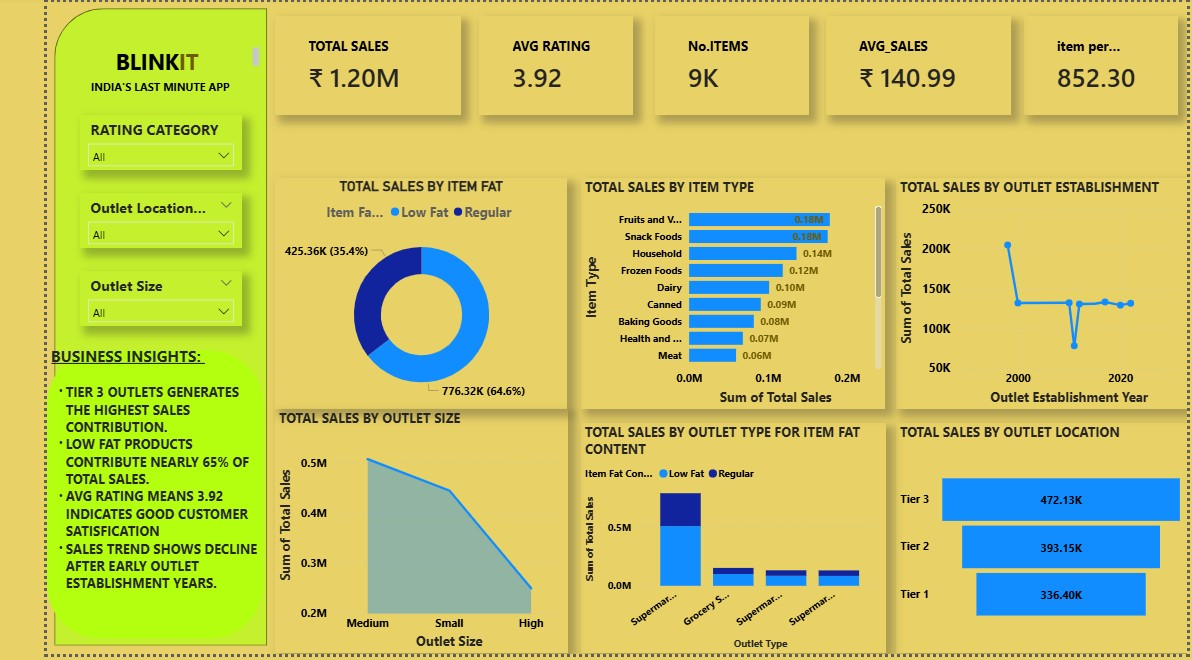

What the dashboard file says about the page in this screenshot:
{"tool":"powerbi","page":{"name":"Page 1","canvas":[1400,800],"ordinal":0},"visuals":[{"type":"shape","box":[0,0,279,799.9],"z":0},{"type":"textbox","box":[12.9,51.5,252.2,38.7],"z":1000},{"type":"textbox","box":[12.9,90.2,252.2,38.7],"z":2000},{"type":"cardVisual","title":"TOTAL SALES","fields":{"Data":["Sum(BlinkIT Grocery Data.Total Sales)"]},"box":[279.8,18.4,228.2,121.5],"z":3000},{"type":"cardVisual","title":"TOTAL SALES","fields":{"Data":["BlinkIT Grocery Data.AVG RATING"]},"box":[530.1,18.4,189.6,121.5],"z":4000},{"type":"cardVisual","title":"TOTAL SALES","fields":{"Data":["BlinkIT Grocery Data.No.ITEMS"]},"box":[745.4,18.4,189.6,121.5],"z":5000},{"type":"donutChart","title":"TOTAL SALES BY ITEM FAT ","fields":{"Y":["Sum(BlinkIT Grocery Data.Total Sales)"],"Category":["BlinkIT Grocery Data.Item Fat Content"]},"box":[279.8,217.2,358.9,283.4],"z":8000},{"type":"lineChart","title":"TOTAL SALES BY OUTLET ESTABLISHMENT","fields":{"Y":["Sum(BlinkIT Grocery Data.Total Sales)"],"Category":["BlinkIT Grocery Data.Outlet Establishment Year"]},"box":[1041.7,217.2,358.9,283.4],"z":10000},{"type":"clusteredBarChart","title":"TOTAL SALES BY ITEM TYPE","fields":{"Y":["Sum(BlinkIT Grocery Data.Total Sales)"],"Category":["BlinkIT Grocery Data.Item Type"]},"box":[655.2,217.2,373.6,283.4],"z":11000},{"type":"columnChart","title":"TOTAL SALES BY OUTLET TYPE FOR ITEM FAT CONTENT","fields":{"Series":["BlinkIT Grocery Data.Item Fat Content"],"Y":["Sum(BlinkIT Grocery Data.Total Sales)"],"Category":["BlinkIT Grocery Data.Outlet Type"]},"box":[655,517,374,283],"z":12000},{"type":"funnel","title":"TOTAL SALES BY OUTLET LOCATION","fields":{"Y":["Sum(BlinkIT Grocery Data.Total Sales)"],"Category":["BlinkIT Grocery Data.Outlet Location Type"]},"box":[1042,517,358,283],"z":13000},{"type":"slicer","fields":{"Values":["BlinkIT Grocery Data.RATING CATEGORY"]},"box":[40.5,139.9,198.8,68.1],"z":14000},{"type":"slicer","fields":{"Values":["BlinkIT Grocery Data.Outlet Location Type"]},"box":[40.5,235.6,198.8,68.1],"z":14002},{"type":"slicer","fields":{"Values":["BlinkIT Grocery Data.Outlet Size"]},"box":[40.5,331.3,198.8,68.1],"z":14003},{"type":"cardVisual","title":"TOTAL SALES","fields":{"Data":["BlinkIT Grocery Data.item per outlet"]},"box":[1198.2,18.4,189.6,121.5],"z":14004},{"type":"cardVisual","title":"TOTAL SALES","fields":{"Data":["BlinkIT Grocery Data.AVG_SALES"]},"box":[955.2,18.4,228.2,121.5],"z":14005},{"type":"stackedAreaChart","title":"TOTAL SALES BY OUTLET SIZE","fields":{"Y":["Sum(BlinkIT Grocery Data.Total Sales)"],"Category":["BlinkIT Grocery Data.Outlet Size"]},"box":[280,500,359,300],"z":14006},{"type":"shape","box":[0,428.8,265,353.4],"z":14007},{"type":"textbox","box":[0,399.4,265,382.8],"z":14008}]}

Visuals, with their boxes in screenshot pixels (x1, y1, x2, y2):
shape: x1=40, y1=3, x2=268, y2=655
textbox: x1=51, y1=45, x2=256, y2=77
textbox: x1=51, y1=77, x2=256, y2=108
"TOTAL SALES" cardVisual: x1=268, y1=18, x2=454, y2=117
"TOTAL SALES" cardVisual: x1=472, y1=18, x2=627, y2=117
"TOTAL SALES" cardVisual: x1=648, y1=18, x2=802, y2=117
"TOTAL SALES BY ITEM FAT " donutChart: x1=268, y1=180, x2=561, y2=411
"TOTAL SALES BY OUTLET ESTABLISHMENT" lineChart: x1=889, y1=180, x2=1182, y2=411
"TOTAL SALES BY ITEM TYPE" clusteredBarChart: x1=574, y1=180, x2=879, y2=411
"TOTAL SALES BY OUTLET TYPE FOR ITEM FAT CONTENT" columnChart: x1=574, y1=424, x2=879, y2=655
"TOTAL SALES BY OUTLET LOCATION" funnel: x1=890, y1=424, x2=1181, y2=655
slicer - BlinkIT Grocery Data.RATING CATEGORY: x1=73, y1=117, x2=235, y2=173
slicer - BlinkIT Grocery Data.Outlet Location Type: x1=73, y1=195, x2=235, y2=251
slicer - BlinkIT Grocery Data.Outlet Size: x1=73, y1=273, x2=235, y2=329
"TOTAL SALES" cardVisual: x1=1017, y1=18, x2=1171, y2=117
"TOTAL SALES" cardVisual: x1=819, y1=18, x2=1005, y2=117
"TOTAL SALES BY OUTLET SIZE" stackedAreaChart: x1=269, y1=411, x2=561, y2=655
shape: x1=40, y1=353, x2=256, y2=641
textbox: x1=40, y1=329, x2=256, y2=641
